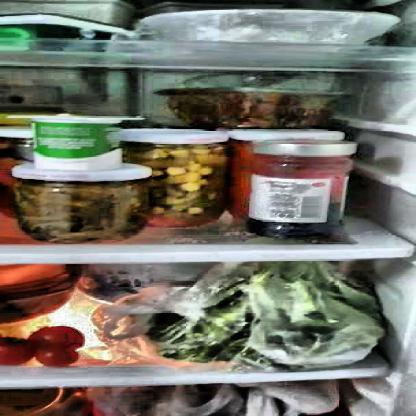cream_cheese: (3, 14, 111, 50)
lettuce: (145, 297, 371, 362)
tomato: (0, 328, 81, 364)
yoghurt: (10, 114, 132, 168)
